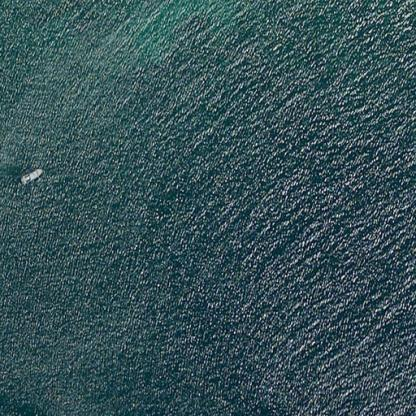ship: (13, 162, 54, 187)
